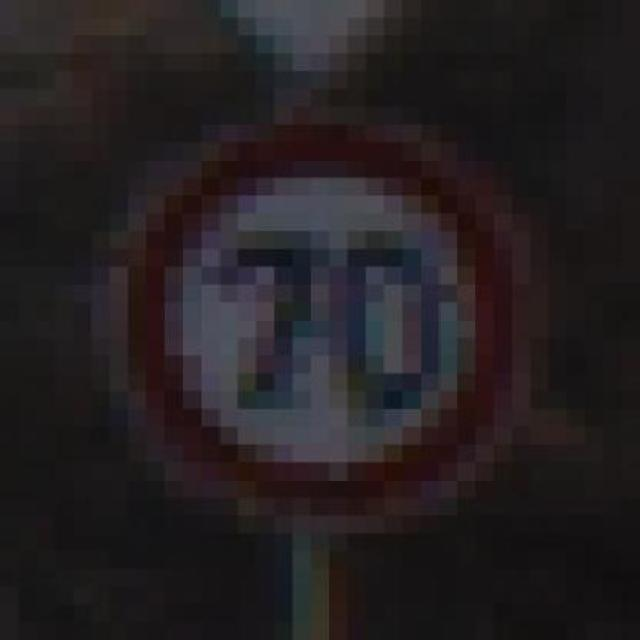forb_speed_over_70: (128, 120, 519, 515)
